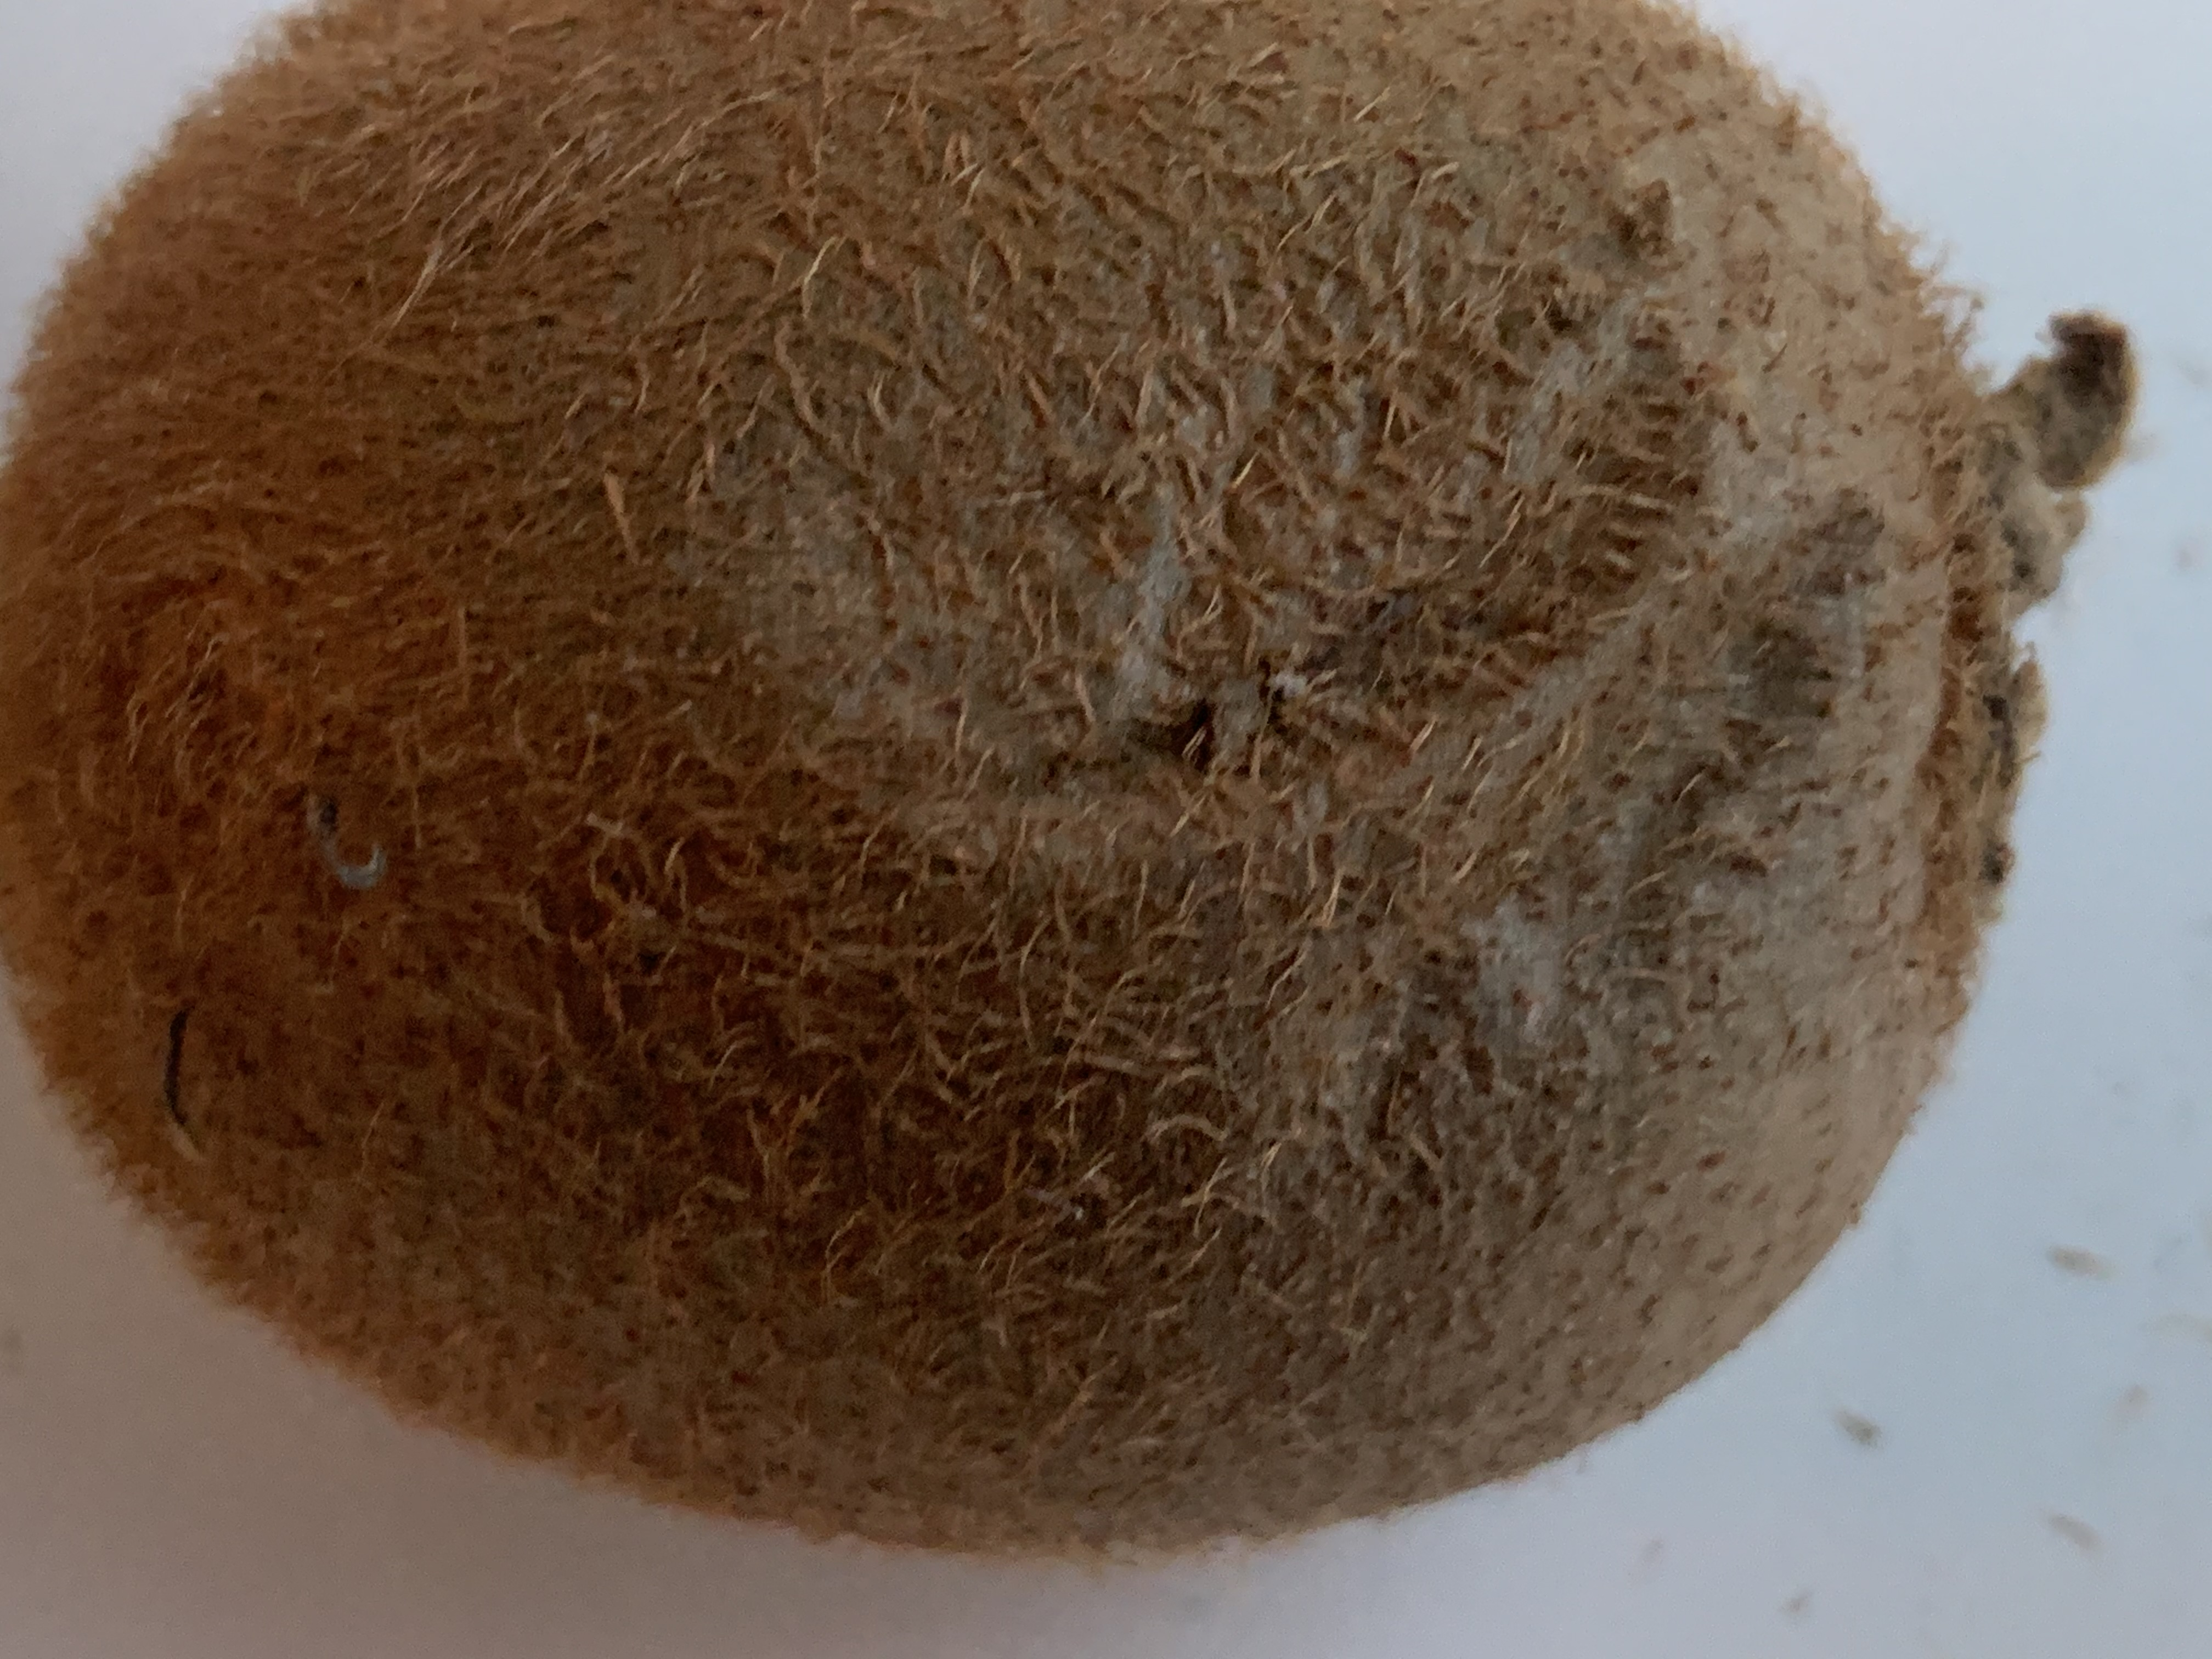kiwi: (12, 9, 2094, 1600)
